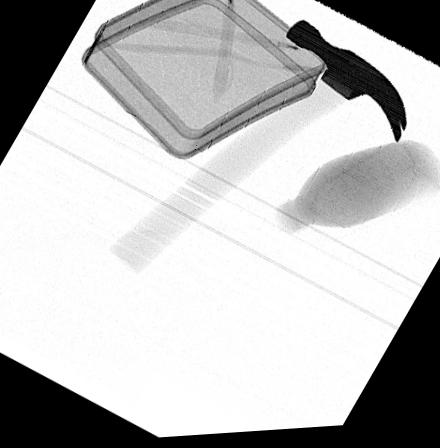Hammer: (106, 22, 407, 276)
